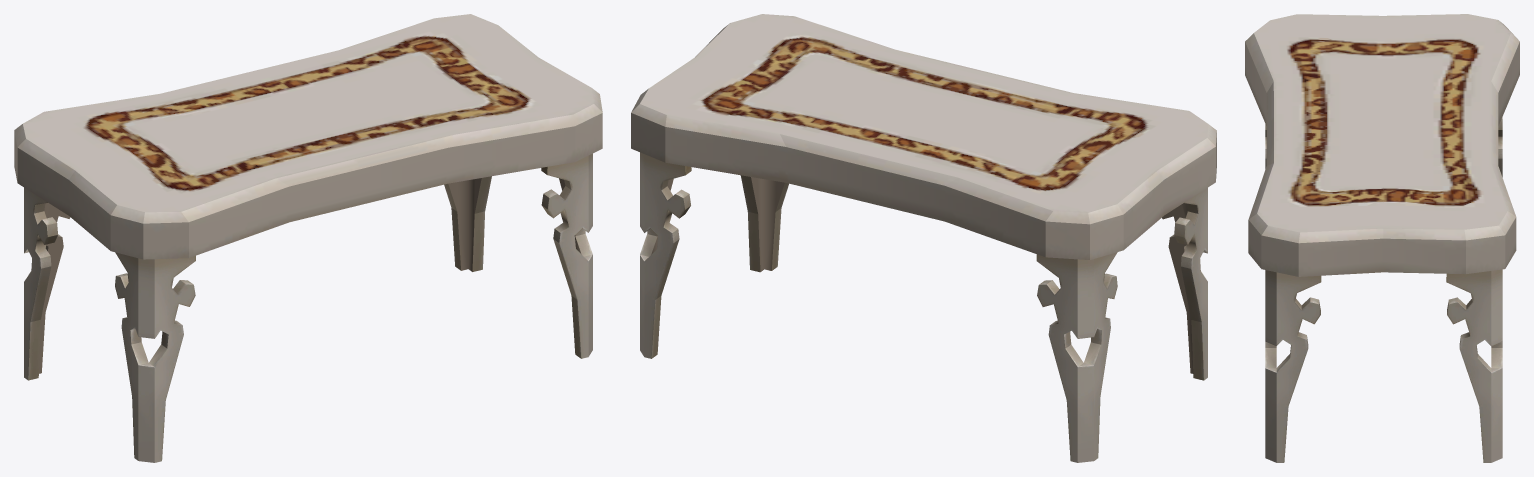
The model's file is furni_0200080.FBX.
3 renders of one model, left to right at view 1: azimuth 30°, elevation 25°; view 2: azimuth 150°, elevation 25°; view 3: azimuth 270°, elevation 25°, orthographic. The views are drawn at different scales.
Parts seen in each view (by area): view 1: furni_0200080; view 2: furni_0200080; view 3: furni_0200080.
Part boxes in pixels (x1,y1,x2,y2): furni_0200080: (14, 14, 602, 462); furni_0200080: (631, 14, 1216, 462); furni_0200080: (1245, 14, 1519, 462).
Bounding box in the file's own units: 165 × 80.26 × 84.88.
